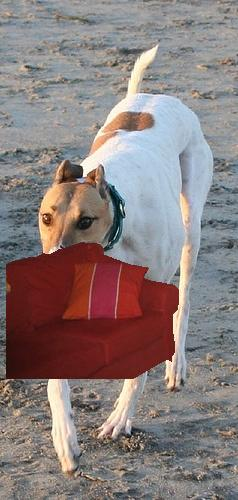tampered: (7, 243, 179, 379)
